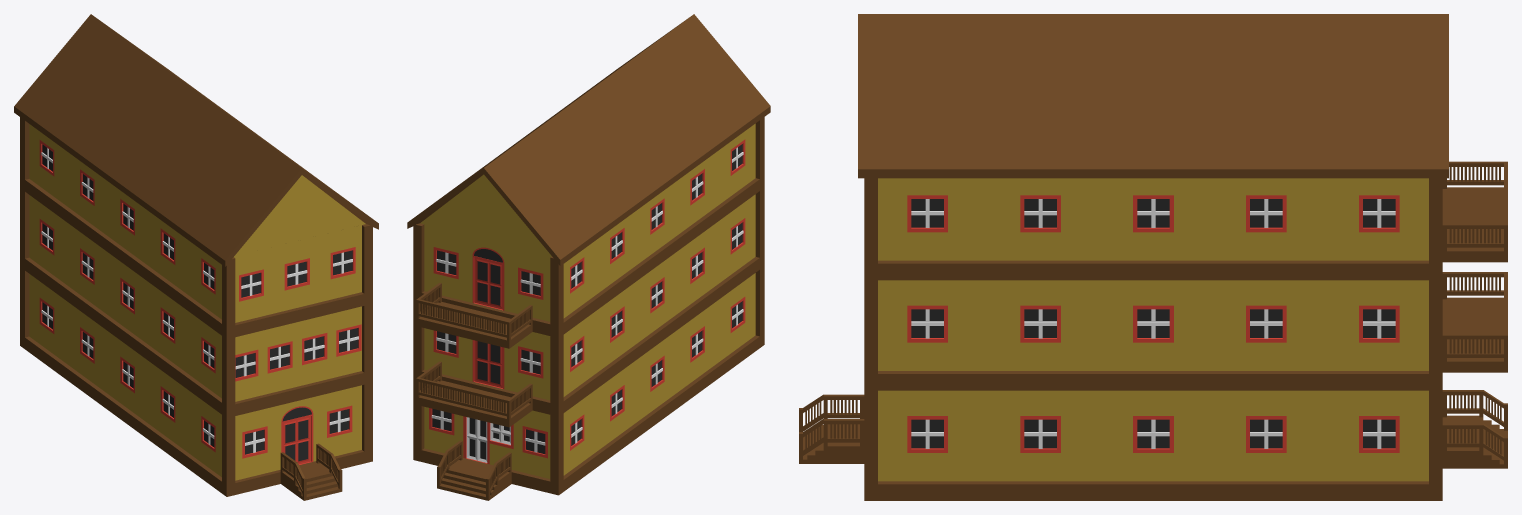
The model's file is herenhuis.fbx.
3 views of the same model, side by side, from view 1: azimuth 30°, elevation 25°; view 2: azimuth 150°, elevation 25°; view 3: azimuth 270°, elevation 25° (orthographic). The views are drawn at different scales.
Parts seen in each view (by area): view 1: building_001; view 2: building_001; view 3: building_001.
Boxes of the visible parts, <box> form: building_001: <box>14,14,378,500</box>; building_001: <box>407,14,770,500</box>; building_001: <box>799,14,1507,500</box>.
Bounding box in the file's own units: 609 × 1184 × 1740.
